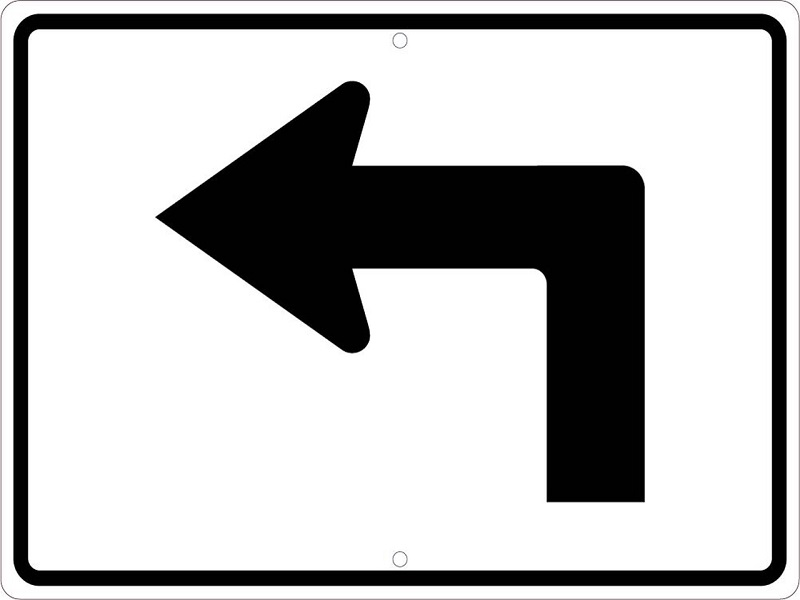solaDon: (11, 13, 787, 578)
